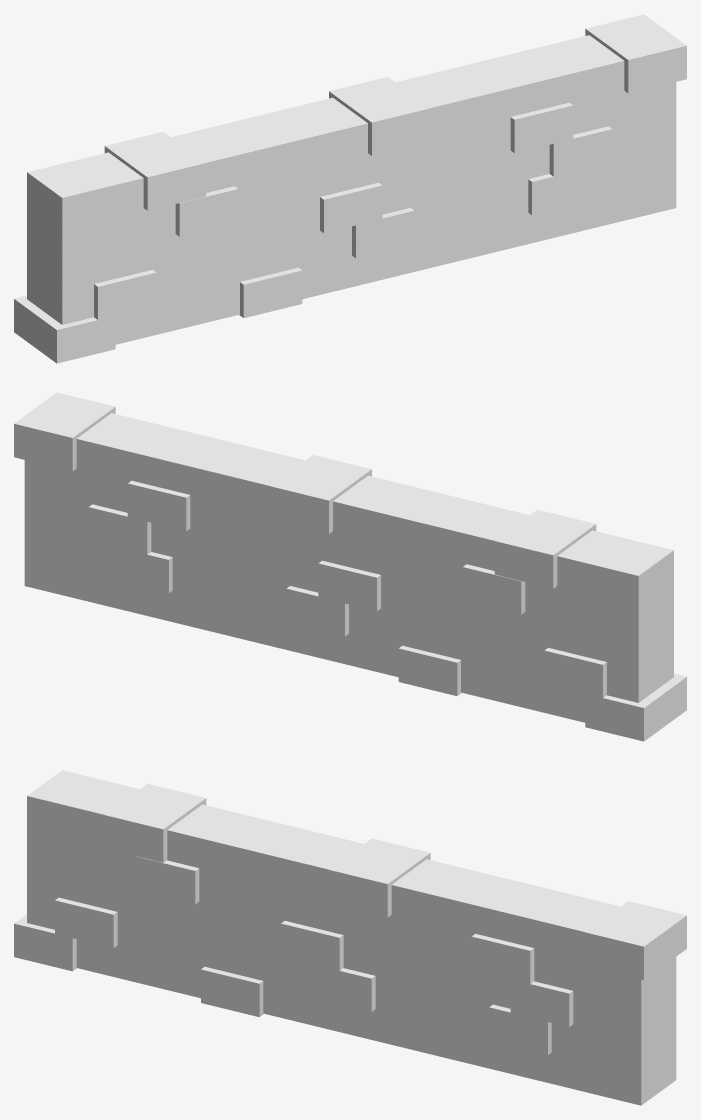
The model's file is StoneWall_2.8.fbx.
3 renders of one model, top to bottom at view 1: azimuth 30°, elevation 25°; view 2: azimuth 150°, elevation 25°; view 3: azimuth 330°, elevation 25°, orthographic.
Visible parts, largest first — view 1: Steinmauer_Original; view 2: Steinmauer_Original; view 3: Steinmauer_Original.
Boxes of the visible parts, <box> form: Steinmauer_Original: <box>14,14,686,363</box>; Steinmauer_Original: <box>14,392,686,741</box>; Steinmauer_Original: <box>14,770,686,1105</box>.
Size of the model in its own units: 4005 by 998 by 472.
